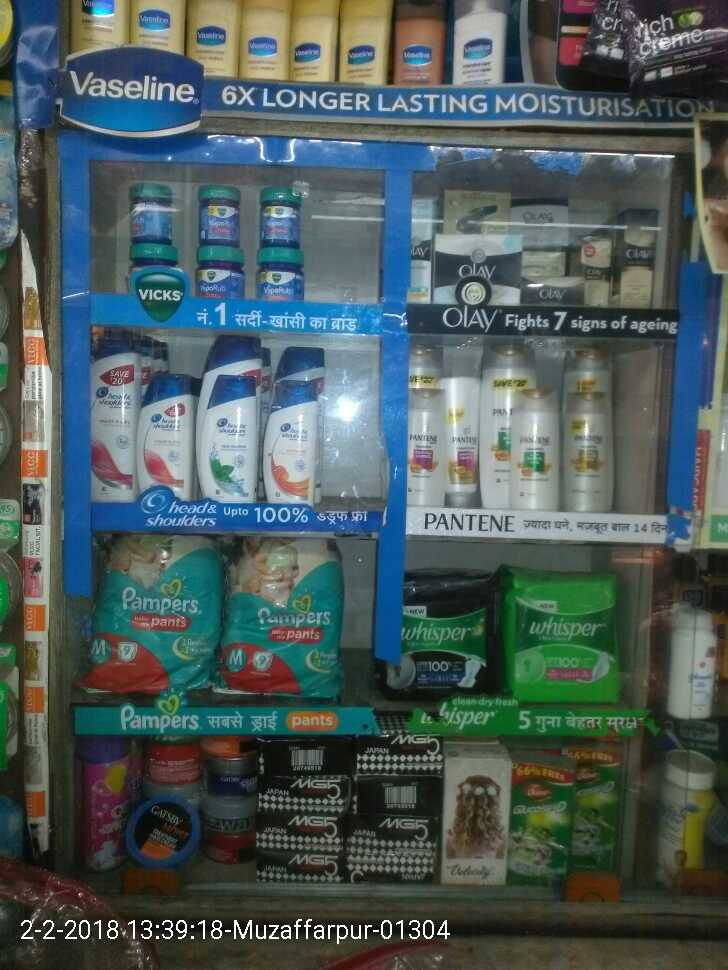vicks: (123, 168, 316, 293)
